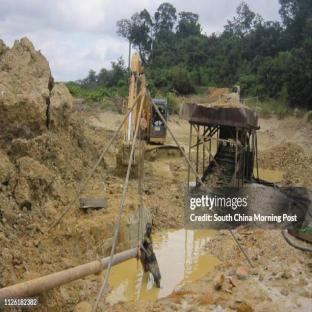ExcavationMachinery: (121, 25, 178, 176)
ProcessingEquipment: (185, 98, 268, 190)
